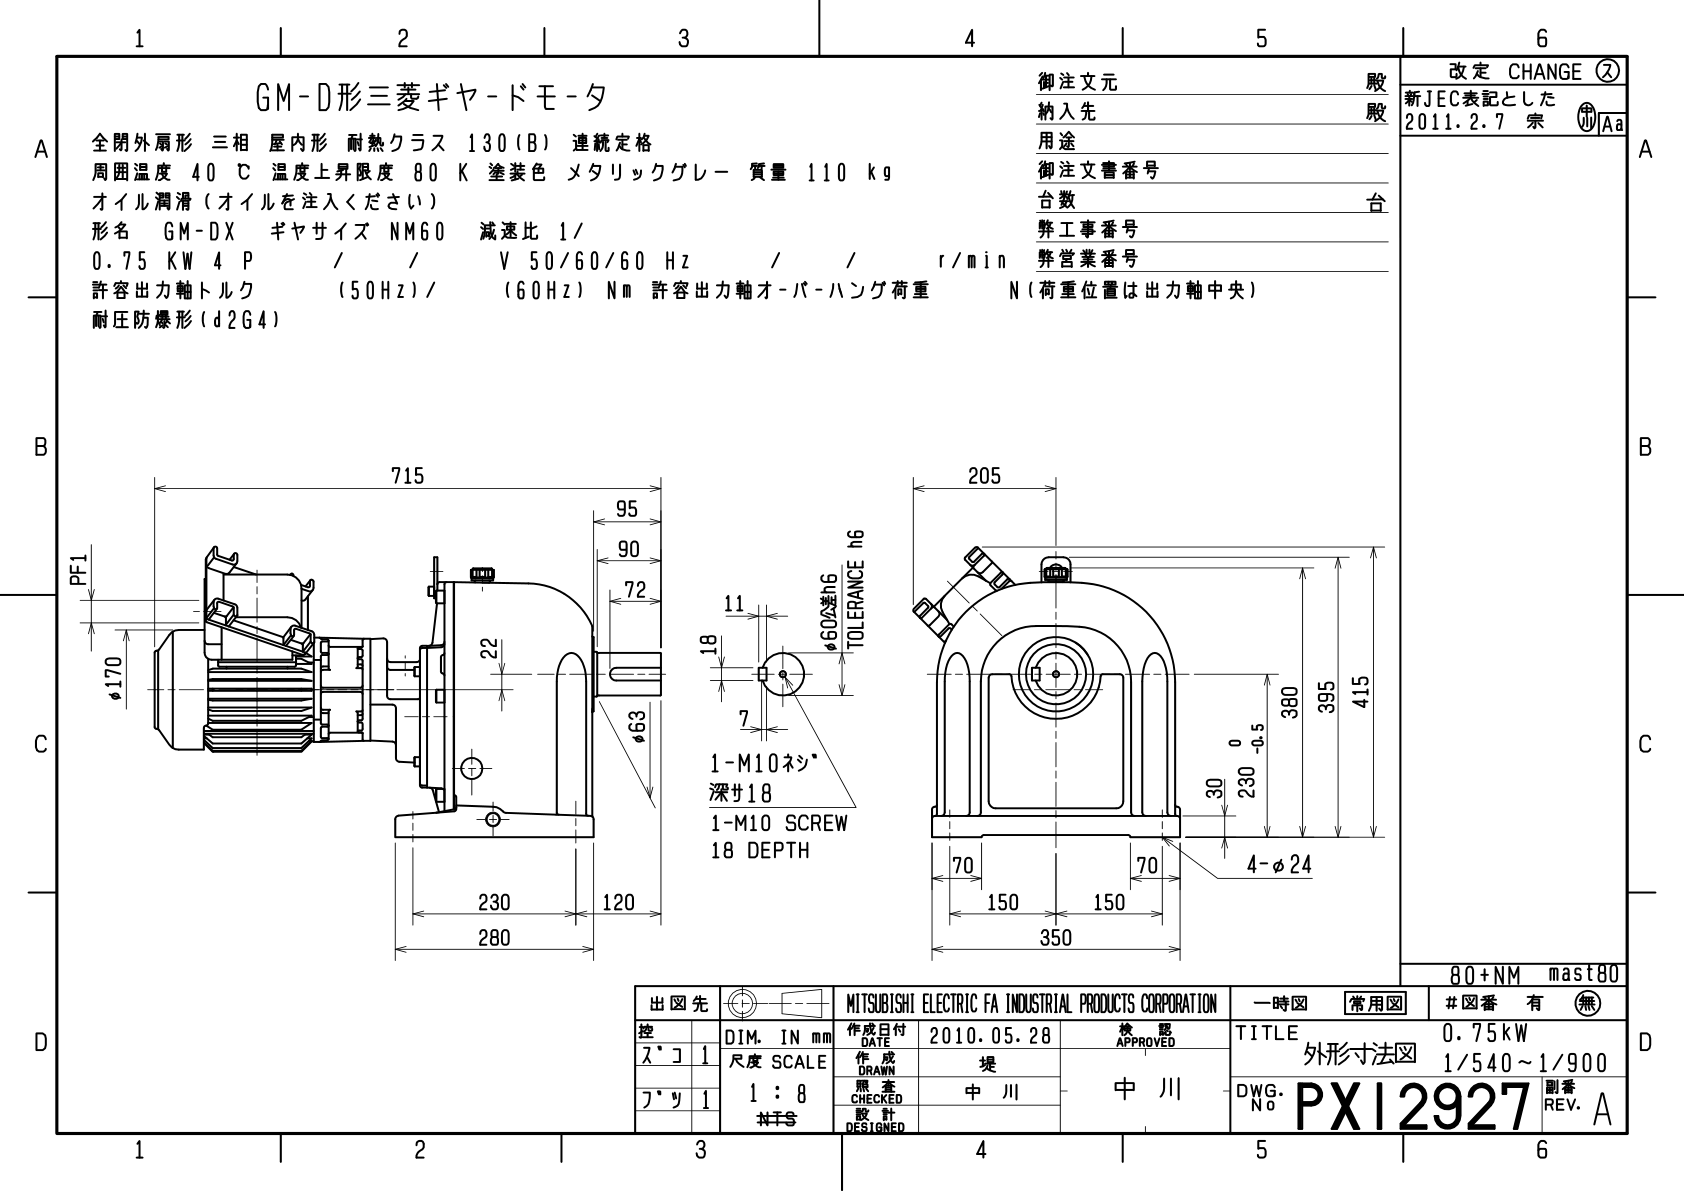GM_D_耐圧屋内_三相_脚: (1, 6, 1674, 1178)
